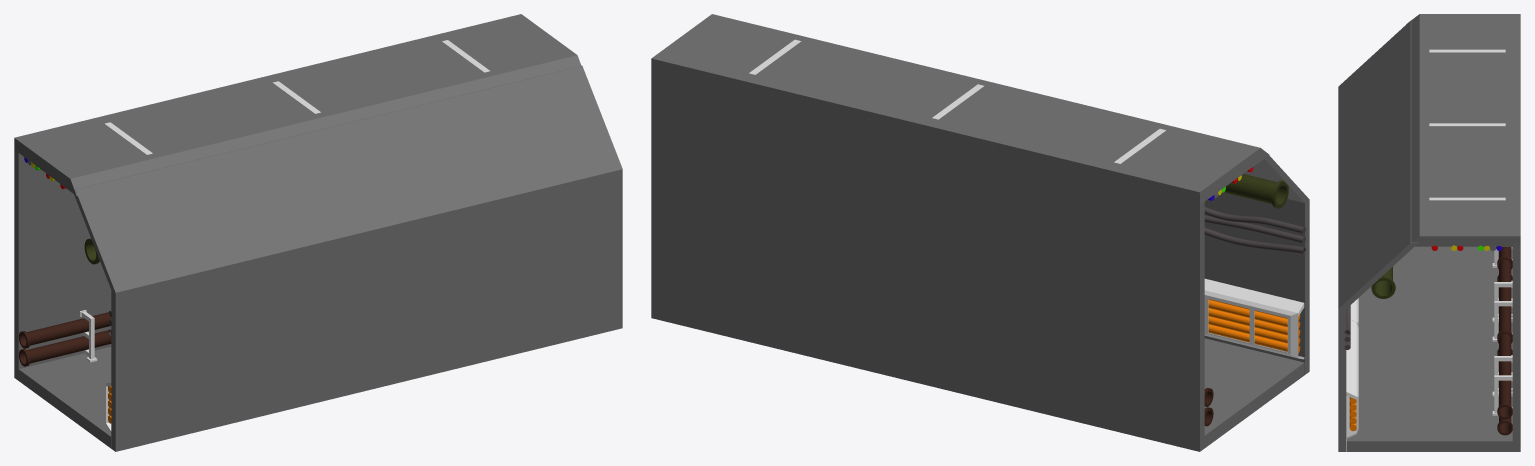
The model's file is apeirophobia Level 2.fbx.
3 renders of one model, left to right at view 1: azimuth 30°, elevation 25°; view 2: azimuth 150°, elevation 25°; view 3: azimuth 270°, elevation 25°, orthographic. The views are drawn at different scales.
Visible parts, largest first — view 1: Куб.002, Куб.017, Куб.009, Куб.003, Куб.004, Куб.019, Куб.011, Куб.001, Цилиндр.002, Цилиндр.001; view 2: Куб.003, Куб.018, Куб.010, Куб.004, Куб.019, Куб.011, Куб.002, Куб.001, Куб.007, Цилиндр, Цилиндр.017, Цилиндр.015 (+5 smaller); view 3: Куб.016, Куб.008, Куб.019, Куб.011, Куб.004, Куб.017, Куб.002, Куб.009, Куб.001, Куб.018, Куб.023, Цилиндр.037 (+10 smaller).
Part boxes in pixels (box(x1,y1,x2,y2)): Куб.002: box(74, 148, 285, 451); Куб.017: box(413, 65, 622, 369); Куб.009: box(243, 107, 453, 410); Куб.003: box(14, 150, 111, 379); Куб.004: box(14, 96, 243, 195); Куб.019: box(352, 14, 581, 106); Куб.011: box(184, 55, 411, 148); Куб.001: box(16, 347, 111, 448); Цилиндр.002: box(19, 330, 111, 366); Цилиндр.001: box(19, 312, 111, 348); Куб.003: box(1016, 156, 1204, 451); Куб.018: box(651, 66, 834, 362); Куб.010: box(835, 111, 1017, 407); Куб.004: box(1016, 103, 1269, 204); Куб.019: box(651, 14, 895, 110); Куб.011: box(834, 59, 1076, 155); Куб.002: box(1204, 155, 1309, 374); Куб.001: box(1202, 338, 1304, 449); Куб.007: box(1204, 278, 1304, 359); Цилиндр: box(1224, 174, 1288, 208); Цилиндр.017: box(1204, 207, 1305, 233); Цилиндр.015: box(1204, 227, 1305, 253); Куб.016: box(1346, 367, 1515, 451); Куб.008: box(1358, 293, 1512, 366); Куб.019: box(1411, 162, 1520, 246); Куб.011: box(1411, 87, 1520, 167); Куб.004: box(1408, 14, 1520, 94); Куб.017: box(1338, 168, 1418, 451); Куб.002: box(1338, 20, 1411, 160); Куб.009: box(1338, 94, 1411, 234); Куб.001: box(1363, 246, 1512, 293); Куб.018: box(1512, 243, 1520, 451); Куб.023: box(1346, 320, 1358, 438); Цилиндр.037: box(1497, 331, 1512, 419).
Bounding box in the file's own units: 722 × 326 × 250.
